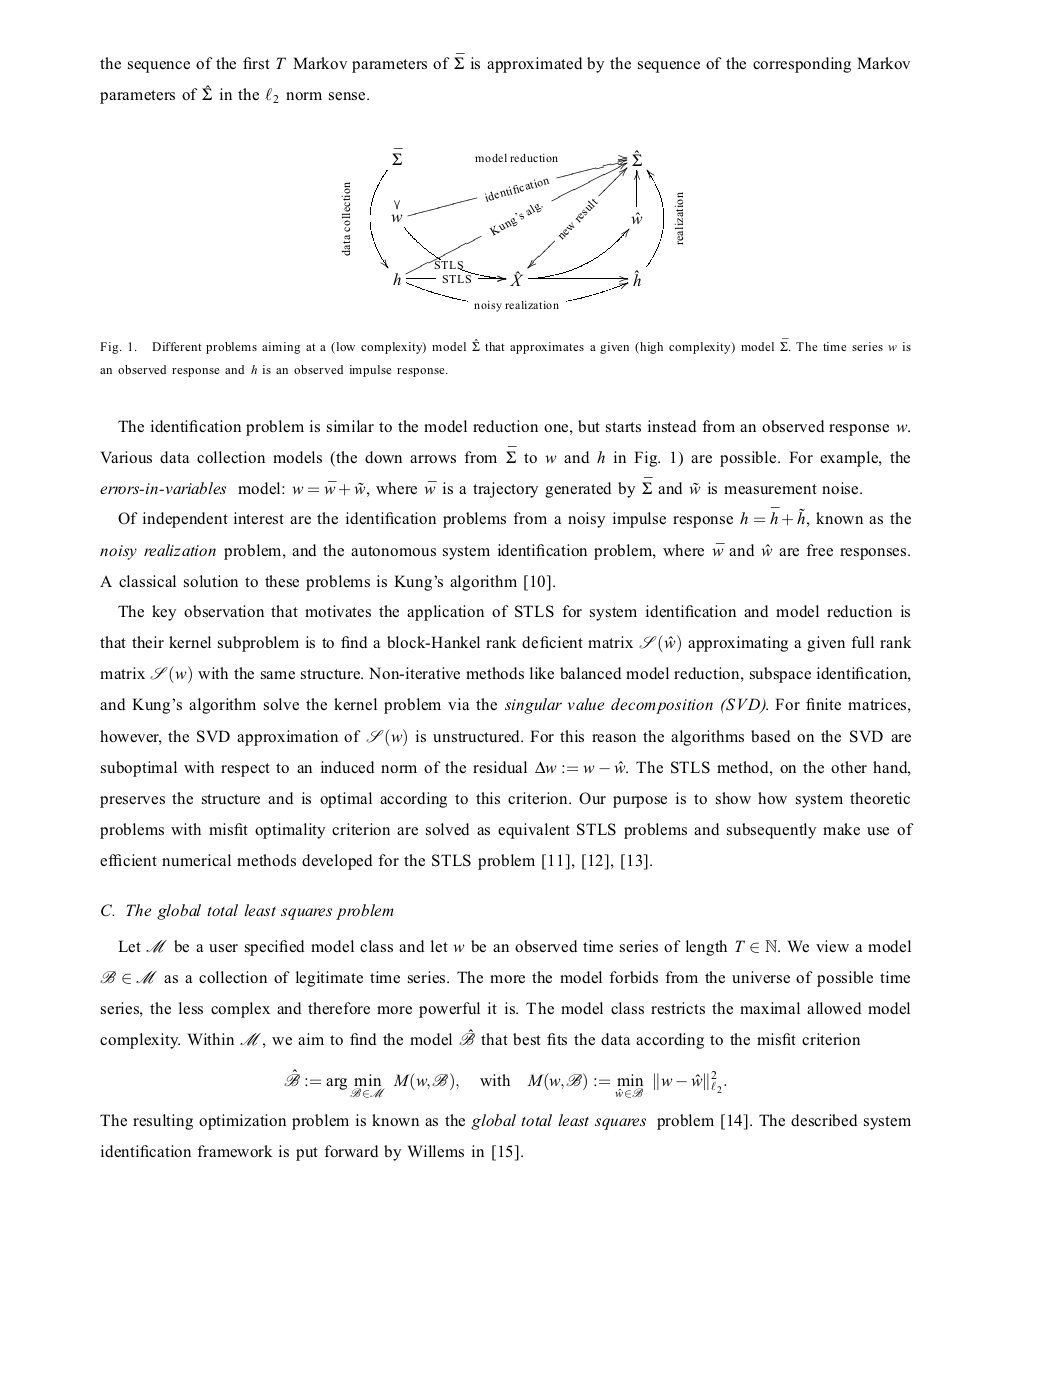figure: (341, 149, 683, 312)
formula: (284, 1068, 726, 1098)
